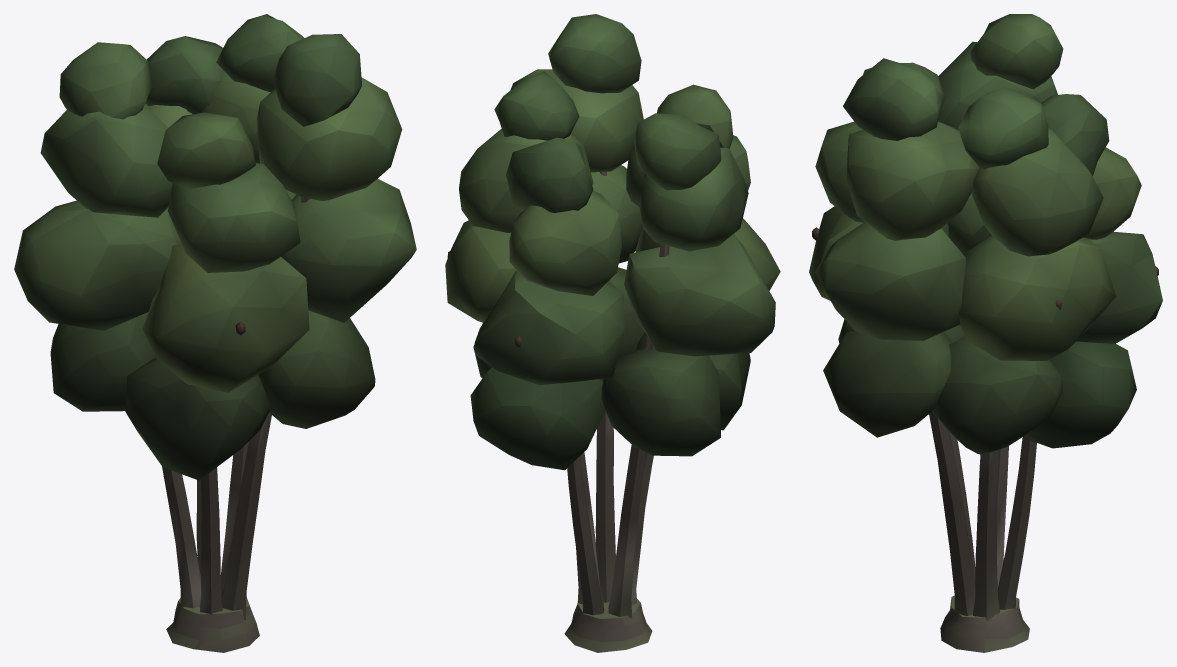
The model's file is ph_env_alder_coppice.glb.
3 renders of one model, left to right at view 1: azimuth 30°, elevation 25°; view 2: azimuth 150°, elevation 25°; view 3: azimuth 270°, elevation 25°, orthographic. The views are drawn at different scales.
Parts seen in each view (by area): view 1: ph_env_alder_coppice; view 2: ph_env_alder_coppice; view 3: ph_env_alder_coppice.
Part boxes in pixels (x1,y1,x2,y2): ph_env_alder_coppice: [14, 14, 416, 652]; ph_env_alder_coppice: [445, 14, 780, 652]; ph_env_alder_coppice: [809, 14, 1162, 652].
Size of the model in its own units: 3.39 by 6.07 by 3.26.
